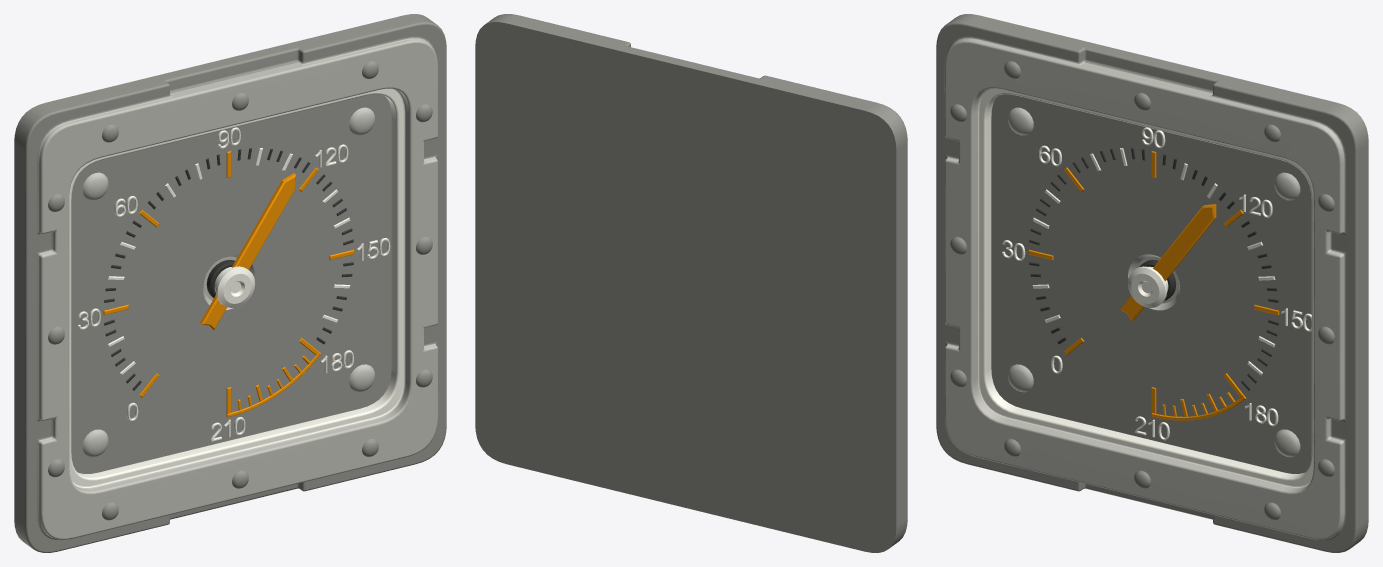
The model's file is Speedometer #5.fbx.
The picture shows the model from 3 angles, left to right: view 1: azimuth 30°, elevation 25°; view 2: azimuth 150°, elevation 25°; view 3: azimuth 330°, elevation 25°; orthographic projection.
Visible parts, largest first — view 1: kitbash_07; view 2: kitbash_07; view 3: kitbash_07.
Part boxes in pixels (bbox=[...]): kitbash_07: bbox=[14, 14, 446, 552]; kitbash_07: bbox=[475, 14, 907, 552]; kitbash_07: bbox=[936, 14, 1368, 552].
Bounding box in the file's own units: 14.16 × 14.16 × 1.04.
